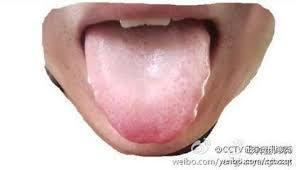baitaishe: (84, 29, 212, 145)
chihenshe: (193, 73, 212, 115)
